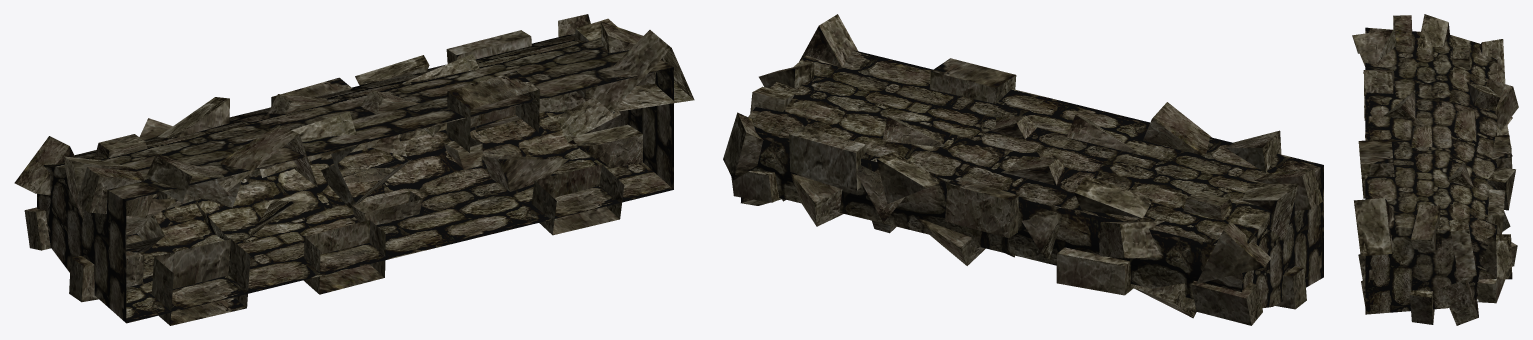
File: MEP_StoneWall_01.fbx
The picture shows the model from 3 angles, left to right: view 1: azimuth 30°, elevation 25°; view 2: azimuth 150°, elevation 25°; view 3: azimuth 270°, elevation 25°; orthographic projection. The views are drawn at different scales.
Parts seen in each view (by area): view 1: MEP_StoneWall_01; view 2: MEP_StoneWall_01; view 3: MEP_StoneWall_01.
Part boxes in pixels (<box>): MEP_StoneWall_01: <box>14,14,694,325</box>; MEP_StoneWall_01: <box>723,14,1323,325</box>; MEP_StoneWall_01: <box>1352,14,1518,325</box>.
Bounding box in the file's own units: 5.34 × 1.51 × 1.76.
